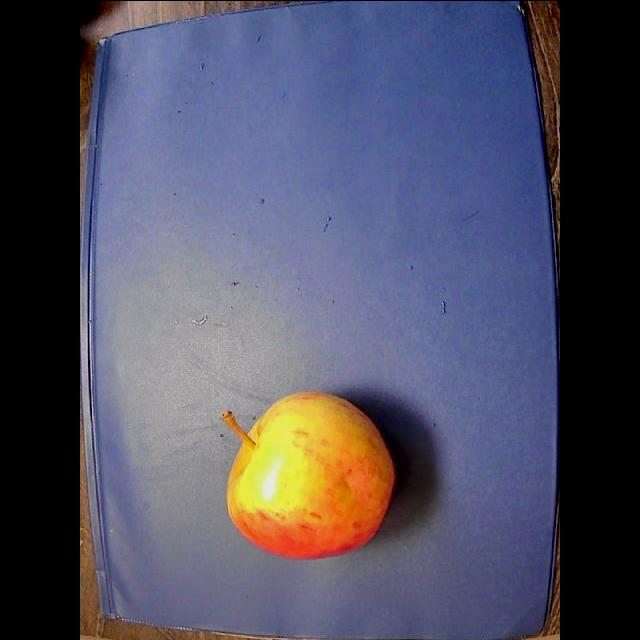manzana: (221, 391, 394, 558)
